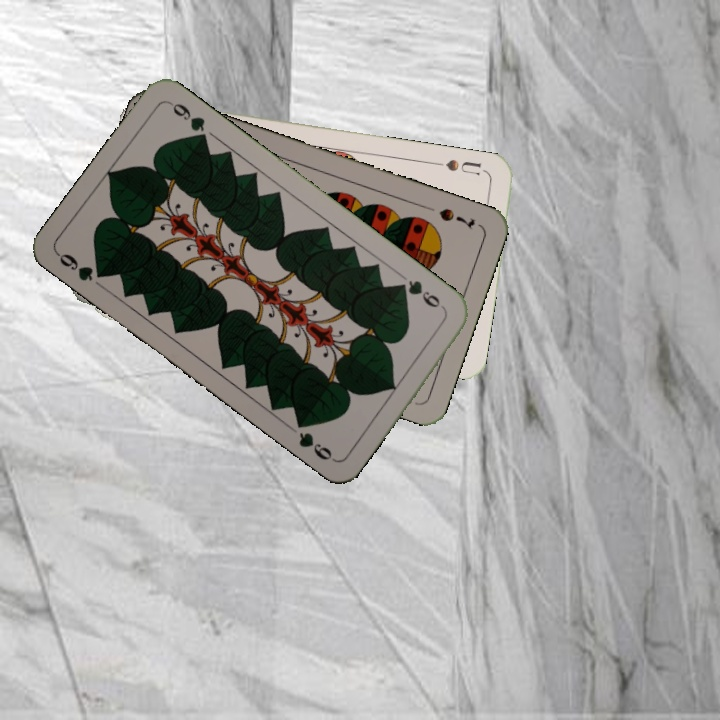G9: (393, 276, 449, 314), (53, 249, 111, 284)
S7: (434, 204, 478, 232)
SU: (430, 155, 489, 178)
